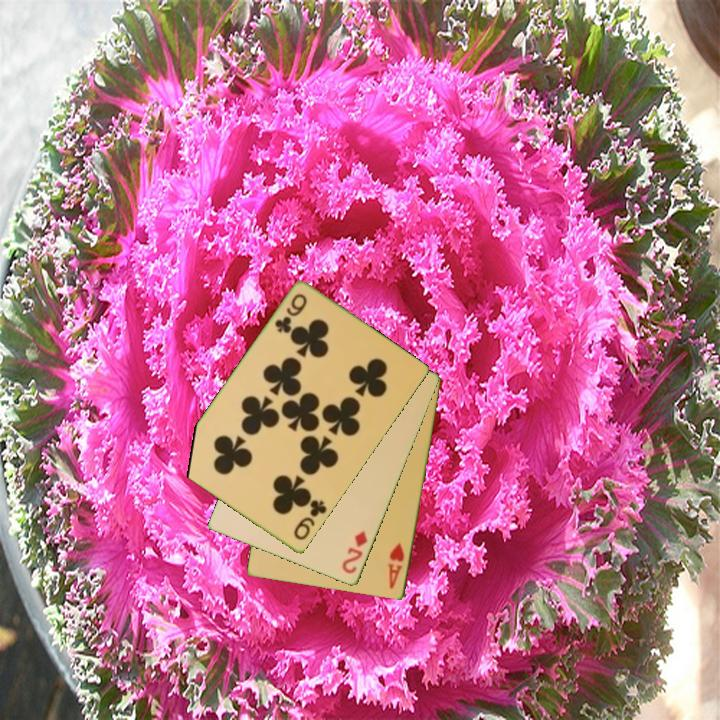2d: (338, 527, 371, 577)
9c: (290, 496, 330, 544), (271, 290, 310, 337)
Ah: (385, 540, 408, 592)
